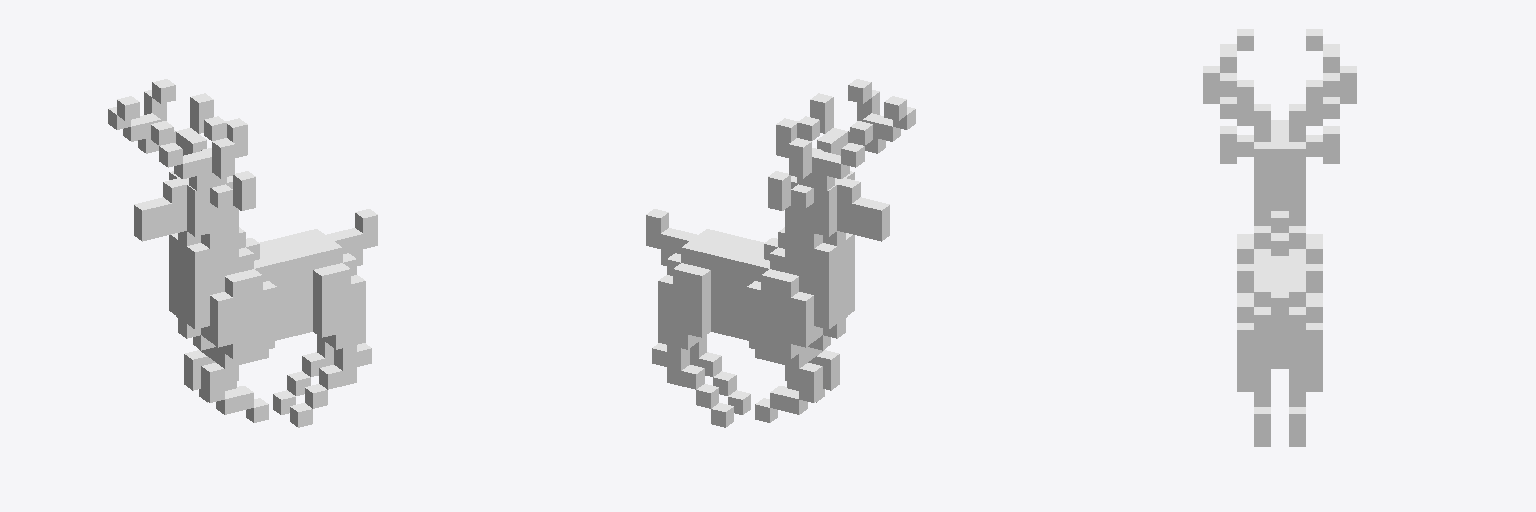
File: deer-00.obj
3 renders of one model, left to right at view 1: azimuth 30°, elevation 25°; view 2: azimuth 150°, elevation 25°; view 3: azimuth 270°, elevation 25°, orthographic.
Bounding box in the file's own units: 16 × 22 × 9.